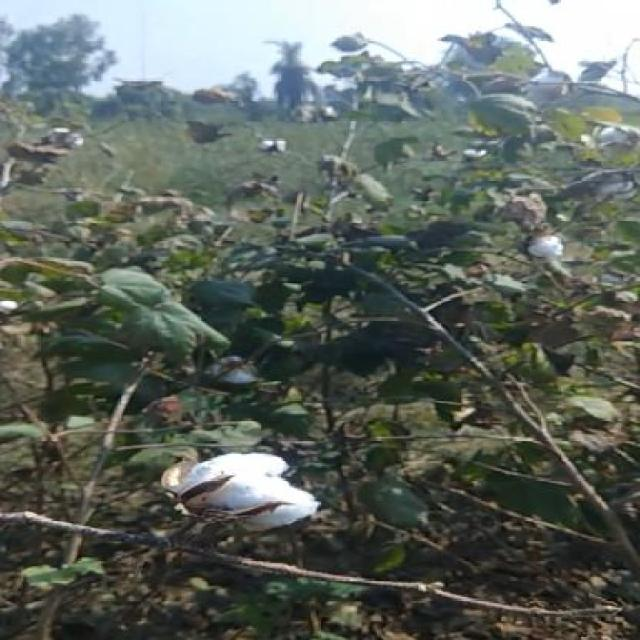cotton_ready: (132, 443, 336, 560)
